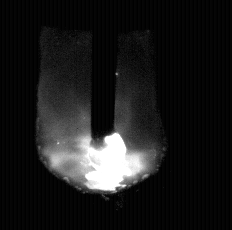arame: (91, 0, 116, 150)
poca: (37, 0, 164, 230)
